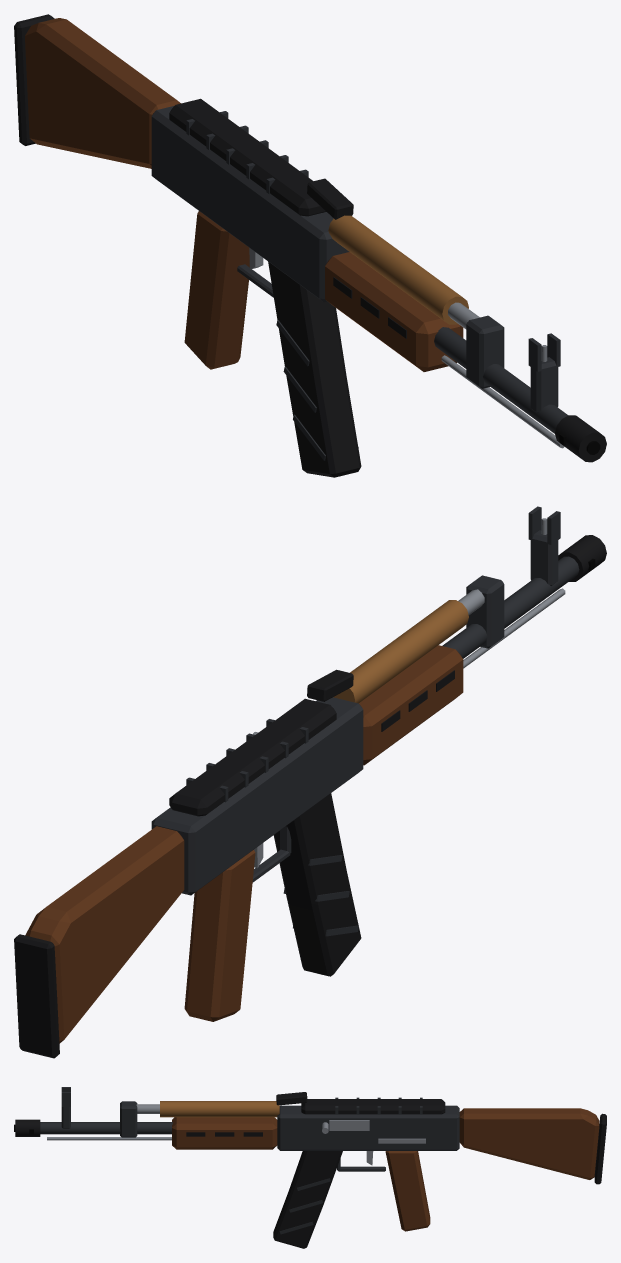
Rendered from Rifle.fbx.
3 views of the same model, one above another, from view 1: azimuth 30°, elevation 25°; view 2: azimuth 150°, elevation 25°; view 3: azimuth 270°, elevation 25° (orthographic). The views are drawn at different scales.
Parts seen in each view (by area): view 1: Rifle; view 2: Rifle; view 3: Rifle.
Boxes of the visible parts, x1,y1,x2,y2 form: Rifle: (14,14,606,477); Rifle: (14,506,606,1058); Rifle: (14,1087,606,1248).
Bounding box in the file's own units: 26.05 × 107 × 370.
